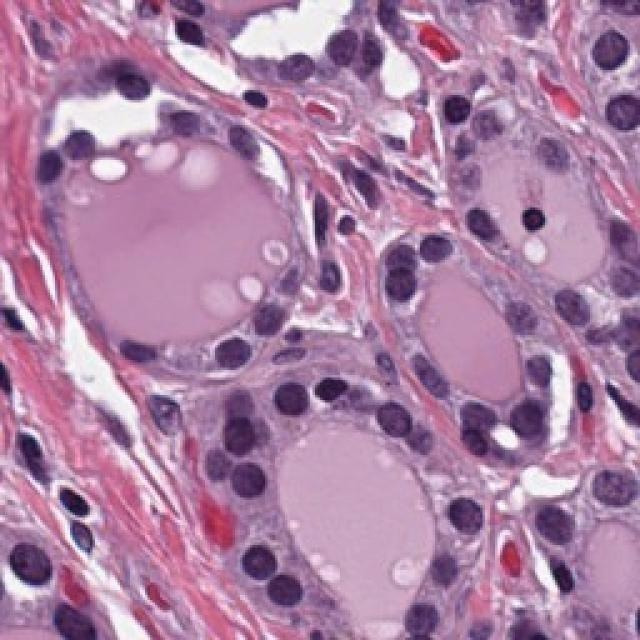normal: (242, 33, 338, 115), (530, 262, 610, 352), (422, 477, 499, 555), (239, 566, 318, 640), (140, 372, 207, 450), (575, 439, 640, 518), (524, 487, 585, 568), (256, 358, 318, 437), (392, 339, 470, 401), (224, 524, 293, 593), (374, 585, 457, 640), (212, 452, 276, 520), (234, 284, 299, 348), (204, 105, 268, 167), (460, 189, 518, 257), (367, 386, 417, 460), (410, 214, 461, 284), (195, 328, 258, 381), (46, 116, 109, 169), (26, 133, 68, 199)
